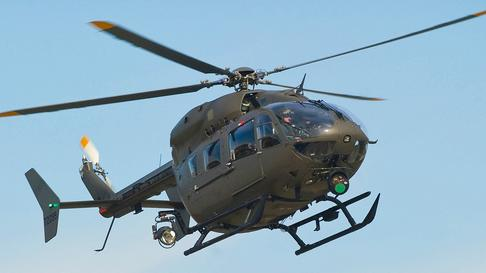MilitaryHelicopter: (29, 53, 374, 262)
